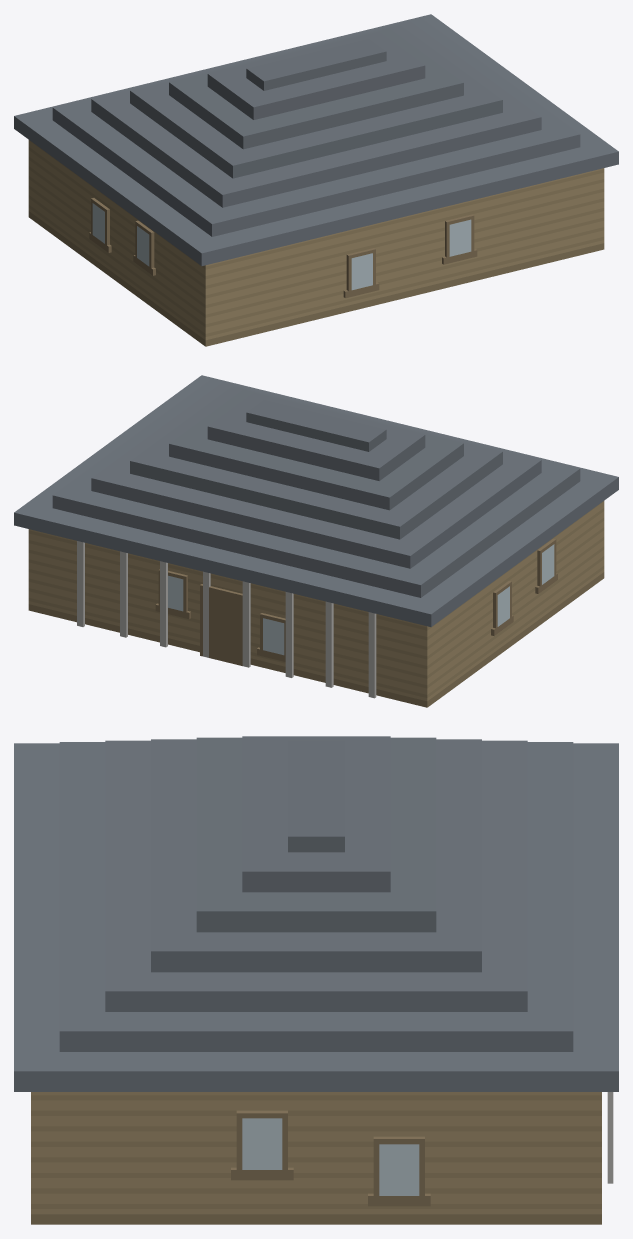
The model's file is teatro_02.glb.
3 views of the same model, one above another, from view 1: azimuth 30°, elevation 25°; view 2: azimuth 150°, elevation 25°; view 3: azimuth 270°, elevation 25° (orthographic). The views are drawn at different scales.
Visible parts, largest first — view 1: teatro_02; view 2: teatro_02; view 3: teatro_02.
Part boxes in pixels (x1,y1,x2,y2): teatro_02: (14,14,618,346); teatro_02: (14,375,618,707); teatro_02: (14,736,618,1224).
Bounding box in the file's own units: 13.6 × 5.4 × 10.6.
